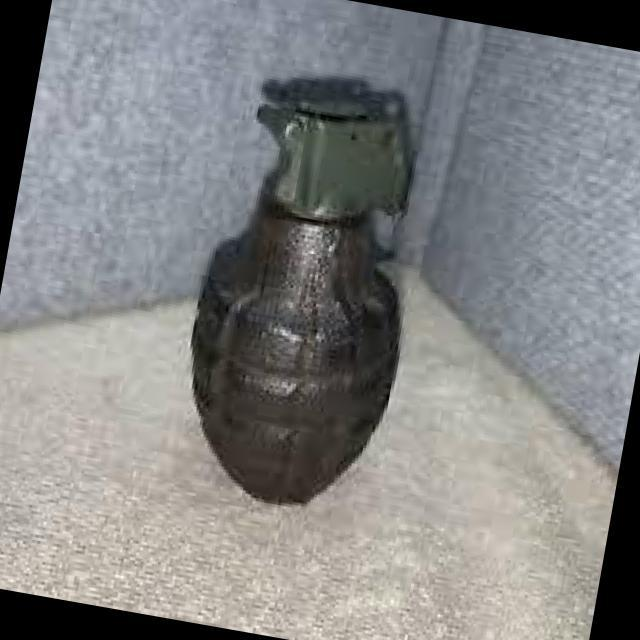grenade: (162, 49, 450, 528)
